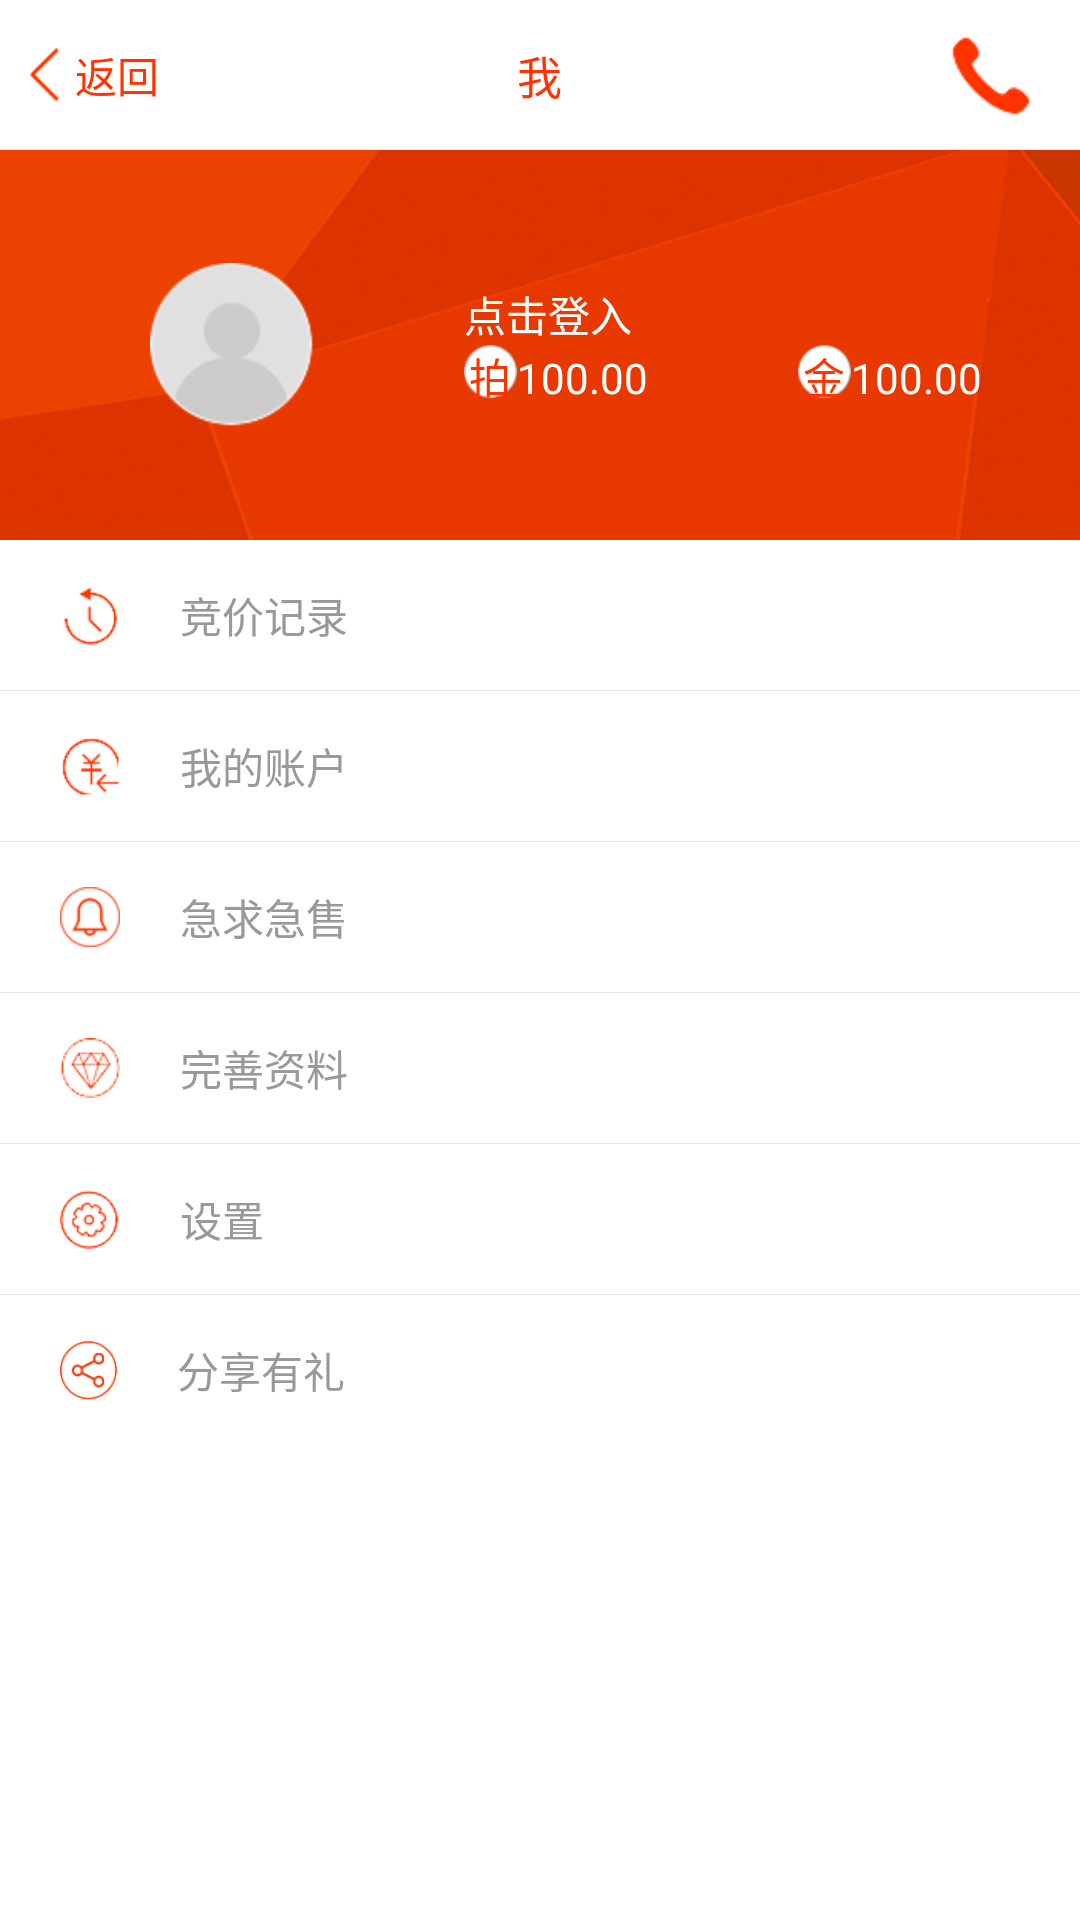

Named icons in this screenshot (1080px×1920px) and their centers, (x=x, y=y):
head: (x=231, y=344)
phone: (x=991, y=76)
share: (x=88, y=1370)
